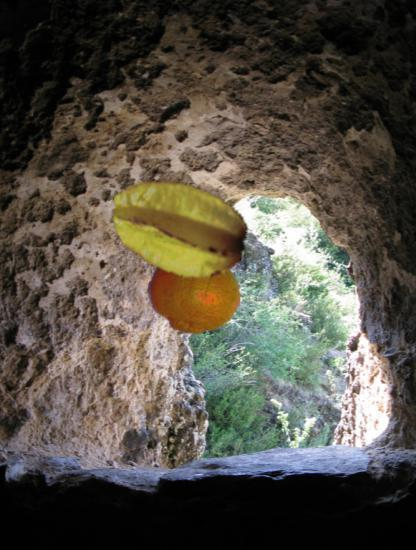Carambula: (108, 157, 250, 299)
Mandarine: (147, 249, 241, 343)
